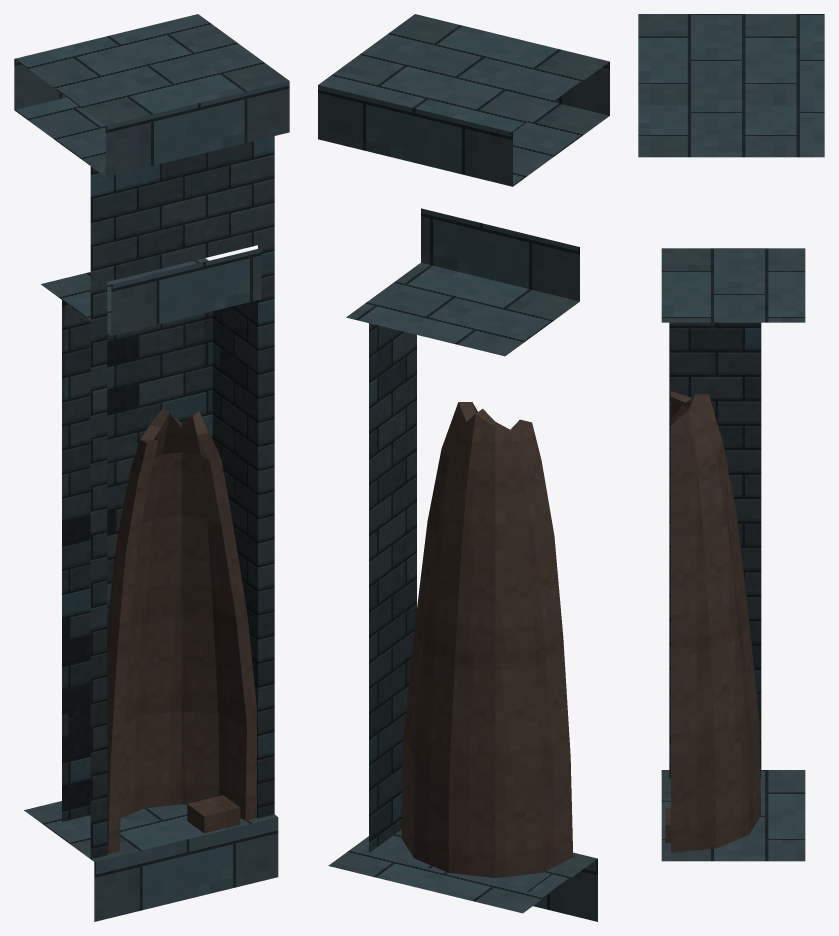
File: T1_Wall_Mould.fbx
3 renders of one model, left to right at view 1: azimuth 30°, elevation 25°; view 2: azimuth 150°, elevation 25°; view 3: azimuth 270°, elevation 25°, orthographic. The views are drawn at different scales.
Visible parts, largest first — view 1: T1_Wall_Mould; view 2: T1_Wall_Mould; view 3: T1_Wall_Mould.
Part boxes in pixels (left/top/right/bottom): T1_Wall_Mould: left=14, top=14, right=289, bottom=921; T1_Wall_Mould: left=318, top=14, right=609, bottom=921; T1_Wall_Mould: left=638, top=14, right=824, bottom=861.
Size of the model in its own units: 1.12 by 4.7 by 0.97.
